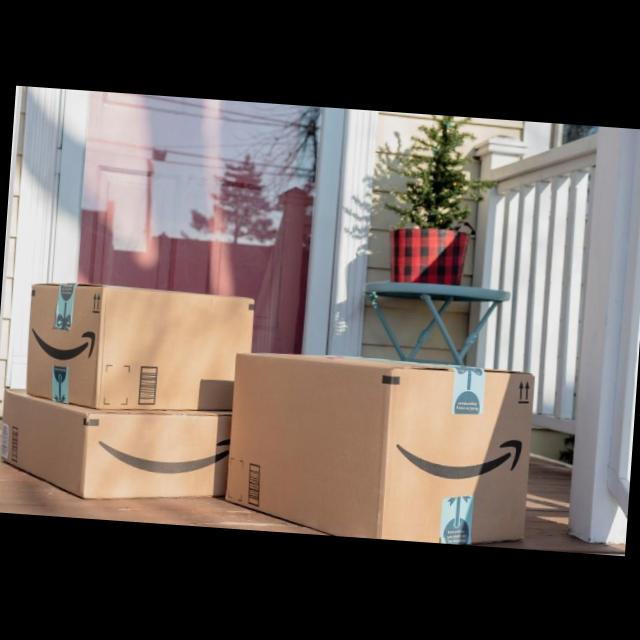box: (222, 345, 541, 548), (20, 275, 256, 412), (0, 386, 240, 508)
